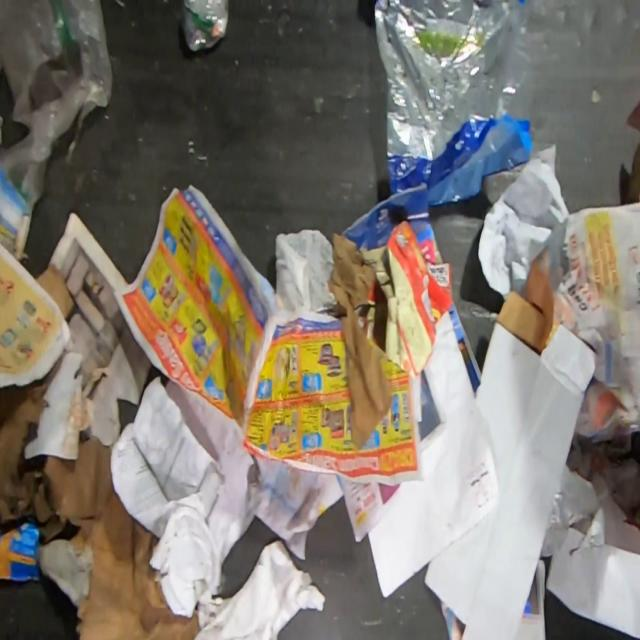cardboard: (36, 434, 200, 640), (0, 522, 41, 582)
rigid_plastic: (148, 505, 222, 619), (179, 0, 230, 52)
soft_plastic: (372, 0, 535, 206), (540, 492, 570, 556)
